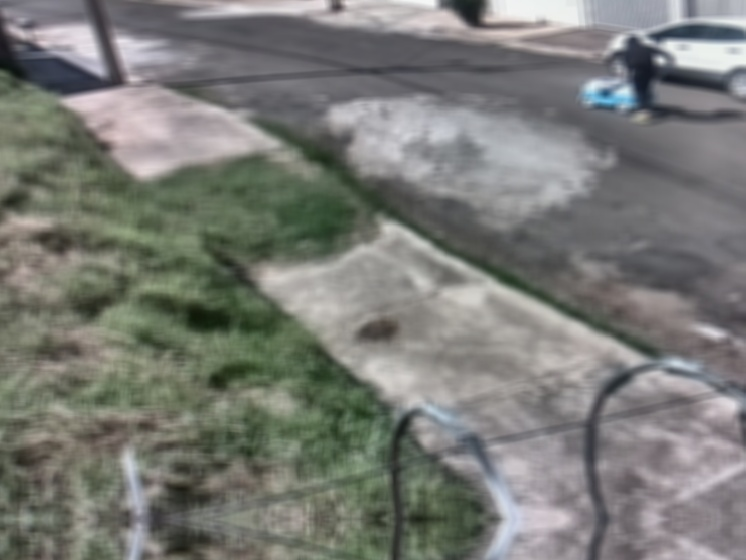person: (618, 35, 676, 123)
